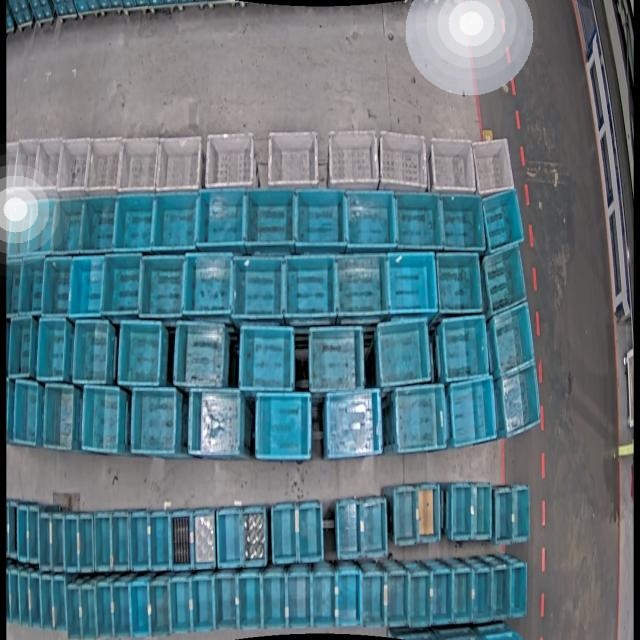Box: (256, 392, 313, 461), (376, 318, 432, 388), (241, 323, 297, 393), (325, 392, 382, 459), (311, 326, 366, 394), (395, 384, 447, 454), (440, 314, 493, 382), (481, 243, 530, 316), (450, 378, 501, 448), (336, 252, 389, 318), (492, 304, 540, 375), (388, 250, 439, 316), (194, 388, 242, 458), (282, 254, 334, 318), (497, 368, 543, 440), (178, 322, 227, 389), (235, 255, 286, 318), (378, 131, 428, 195), (436, 250, 484, 316), (327, 127, 378, 189), (297, 188, 349, 248), (267, 128, 318, 189), (132, 388, 178, 455), (184, 253, 232, 316), (204, 132, 254, 192), (246, 188, 296, 248), (117, 320, 162, 386), (345, 188, 394, 248), (394, 190, 442, 250), (197, 188, 245, 248), (482, 188, 526, 253), (440, 191, 486, 252), (139, 255, 184, 317), (432, 137, 478, 197), (79, 387, 120, 453), (157, 136, 202, 196), (155, 190, 200, 250), (472, 138, 516, 198), (115, 194, 156, 252), (75, 320, 112, 384), (103, 254, 141, 316), (119, 138, 160, 195), (85, 137, 122, 195), (71, 256, 106, 316), (82, 195, 118, 252), (38, 318, 70, 381), (45, 386, 76, 448), (52, 196, 85, 254), (57, 138, 90, 195), (13, 382, 41, 446), (44, 257, 73, 316), (10, 316, 37, 378), (27, 198, 56, 254), (359, 498, 386, 558), (394, 486, 421, 546), (271, 503, 297, 563), (216, 508, 242, 568), (34, 139, 62, 194), (11, 140, 40, 193), (298, 502, 324, 561), (336, 501, 362, 559), (242, 507, 266, 568), (449, 484, 475, 540), (312, 570, 337, 628), (418, 482, 442, 542), (20, 258, 45, 314), (362, 572, 386, 627), (194, 508, 216, 567), (288, 574, 312, 628), (238, 575, 261, 631), (263, 572, 285, 630), (338, 571, 361, 625), (8, 201, 31, 255), (151, 511, 172, 570), (386, 572, 408, 628), (431, 570, 453, 625), (215, 574, 237, 629), (110, 511, 130, 571), (410, 572, 432, 626), (192, 578, 214, 632), (129, 581, 150, 637), (131, 511, 150, 570), (150, 581, 170, 637), (172, 514, 192, 570), (453, 571, 473, 625), (170, 579, 190, 633), (492, 566, 511, 621), (493, 489, 512, 544), (96, 583, 114, 639), (95, 513, 112, 572), (473, 571, 492, 623), (111, 584, 129, 638), (78, 514, 94, 572), (514, 486, 530, 544), (82, 583, 98, 639), (511, 563, 527, 618), (66, 585, 81, 640), (64, 514, 78, 572), (52, 514, 66, 572), (40, 574, 54, 630), (19, 506, 33, 562), (54, 577, 68, 632), (29, 572, 41, 630), (27, 507, 39, 565), (8, 571, 20, 625), (40, 514, 51, 572), (8, 501, 18, 560), (18, 505, 28, 561), (20, 572, 30, 627)
